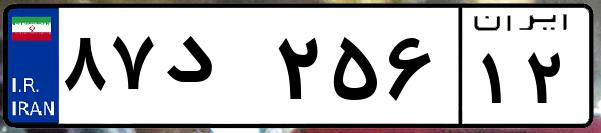1: (475, 38, 525, 113)
2: (270, 28, 330, 110), (525, 38, 570, 115)
5: (330, 28, 385, 110)
6: (385, 28, 445, 110)
7: (110, 28, 158, 98)
8: (57, 26, 110, 100)
د: (158, 20, 270, 120)
